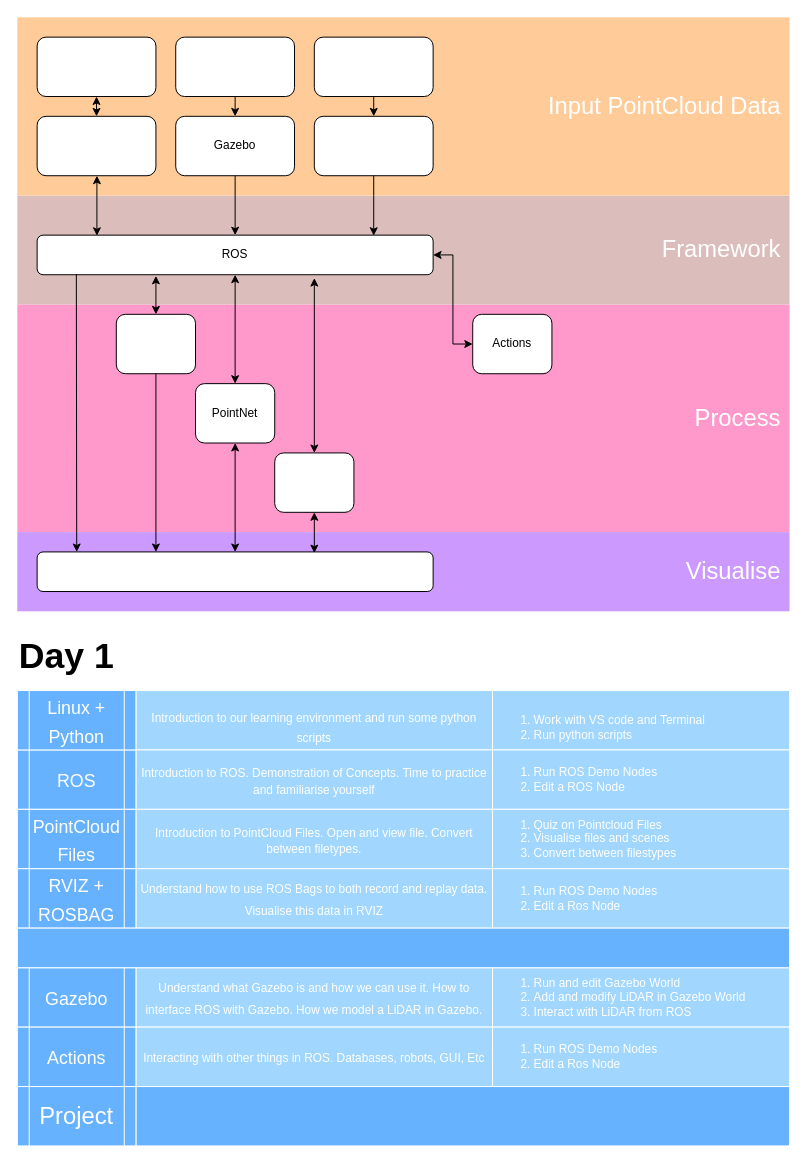
Image size: 807x1163. Some labels were removed from this diagram. Each missing label, with the centre of its shape:
"Description" belongs at [314,680].
"LiDAR_Sensor" belongs at [373,145].
"LUNCH" belongs at [403,947].
"Make Something (there will be examples, pre-trained model?)" belongs at [462,1116].
"Open3D" belongs at [155,343].
"Pointcloud_Files" belongs at [96,66].
"Real_World" belongs at [373,66].
"ROS_BAG" belongs at [96,145].
"RVIZ" belongs at [234,571].
"Simulated_World" belongs at [235,66].
"Tasks" belongs at [640,680].
